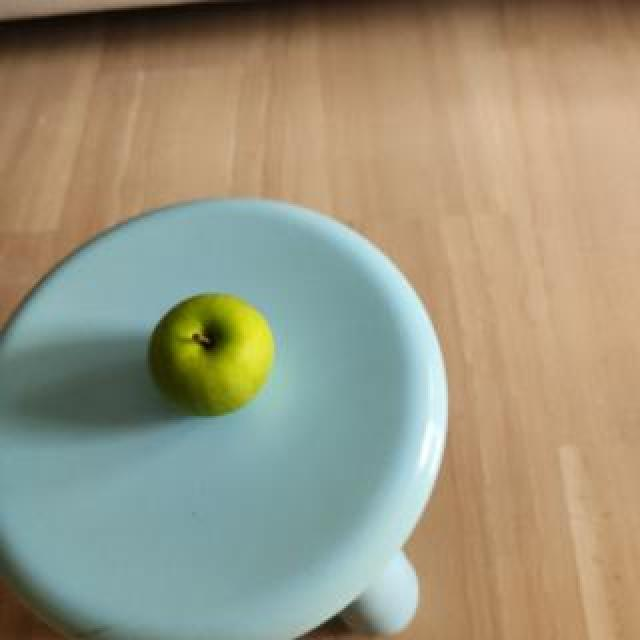Fresh Apple: (145, 296, 280, 408)
